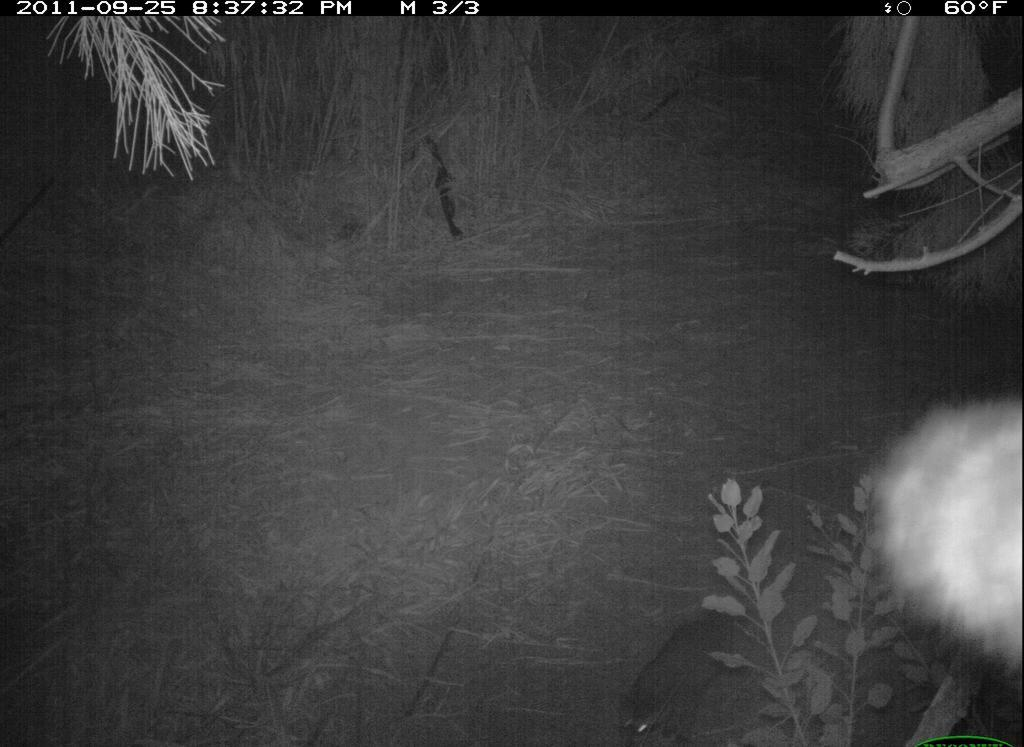raccoon: (603, 585, 766, 747)
